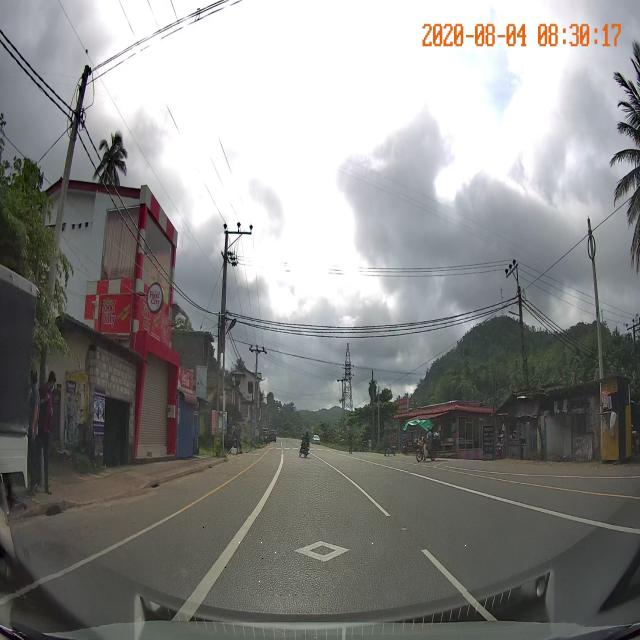diamond: (199, 516, 467, 595)
